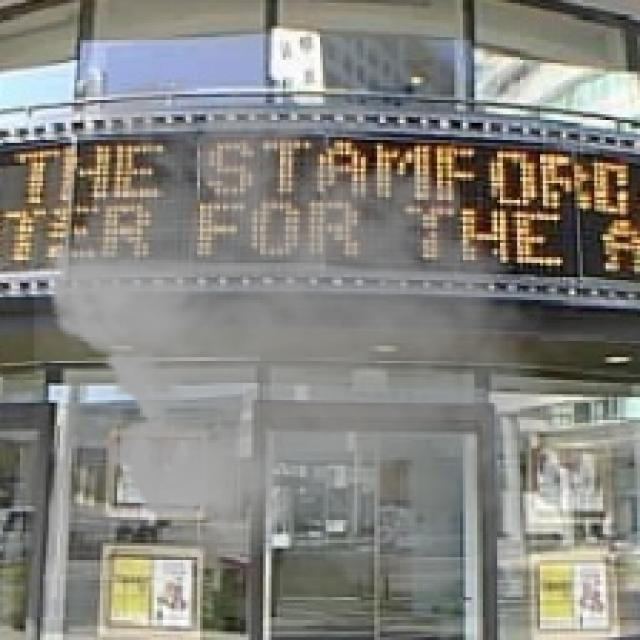Smoke: (34, 57, 586, 606)
